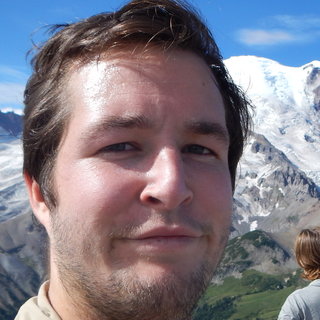eye: (175, 135, 221, 165), (93, 134, 141, 162)
